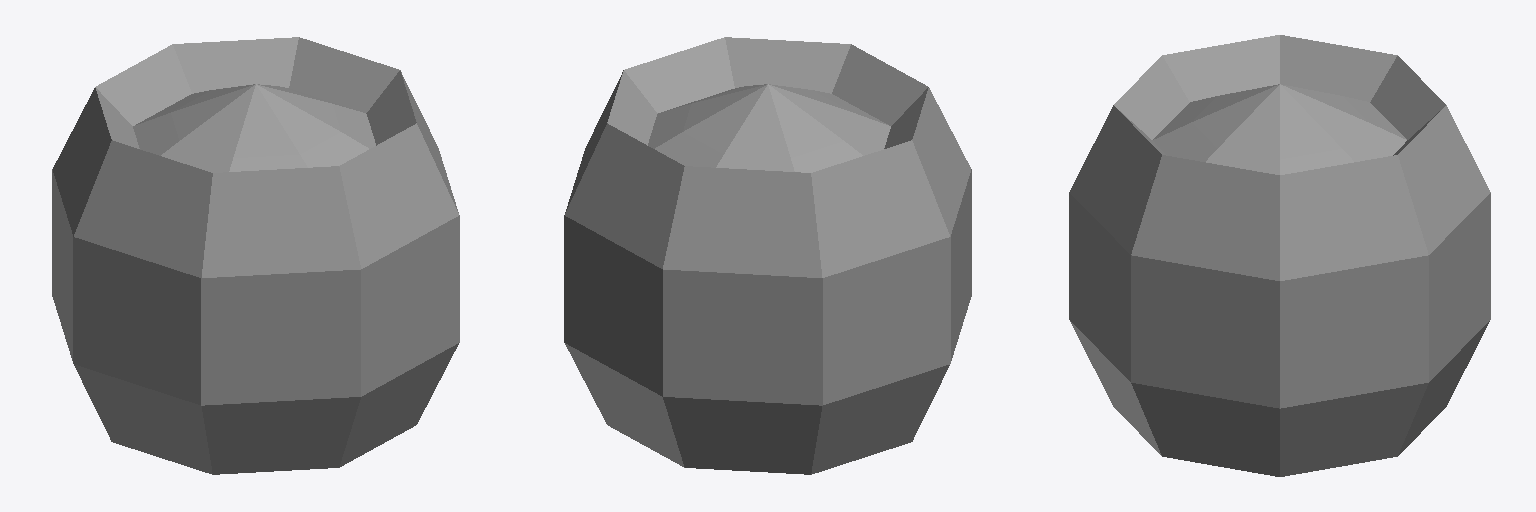
Rendered from terra_focus_desert.obj.
3 renders of one model, left to right at view 1: azimuth 30°, elevation 25°; view 2: azimuth 150°, elevation 25°; view 3: azimuth 270°, elevation 25°, orthographic.
Visible parts, largest first — view 1: Cylinder_Cylinder.001; view 2: Cylinder_Cylinder.001; view 3: Cylinder_Cylinder.001.
Part boxes in pixels (bbox=[...]): Cylinder_Cylinder.001: bbox=[52, 37, 459, 474]; Cylinder_Cylinder.001: bbox=[564, 37, 971, 474]; Cylinder_Cylinder.001: bbox=[1069, 35, 1490, 476].
Size of the model in its own units: 1 by 0.9 by 1.